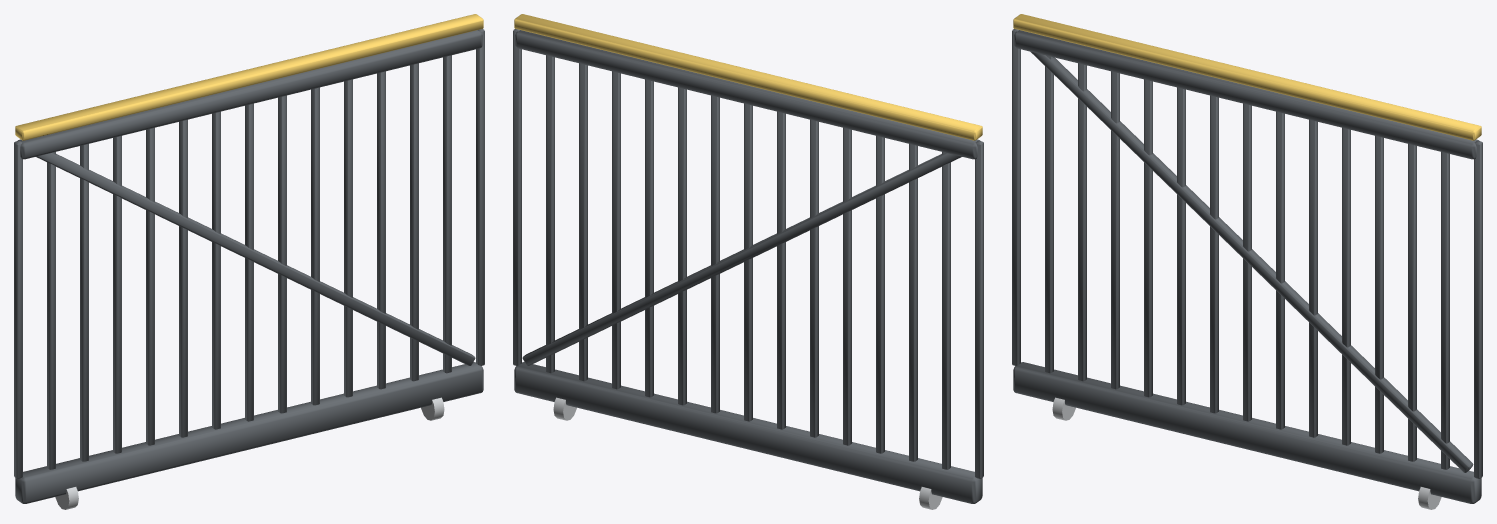
Rendered from gate_leaf_3.glb.
The picture shows the model from 3 angles, left to right: view 1: azimuth 30°, elevation 25°; view 2: azimuth 150°, elevation 25°; view 3: azimuth 330°, elevation 25°; orthographic projection.
Parts seen in each view (by area): view 1: Body; view 2: Body; view 3: Body.
Boxes of the visible parts, left/top/right/bottom form: Body: left=14, top=14, right=484, bottom=509; Body: left=513, top=14, right=983, bottom=509; Body: left=1012, top=14, right=1482, bottom=509.
Size of the model in its own units: 2.92 by 2.33 by 0.16.
